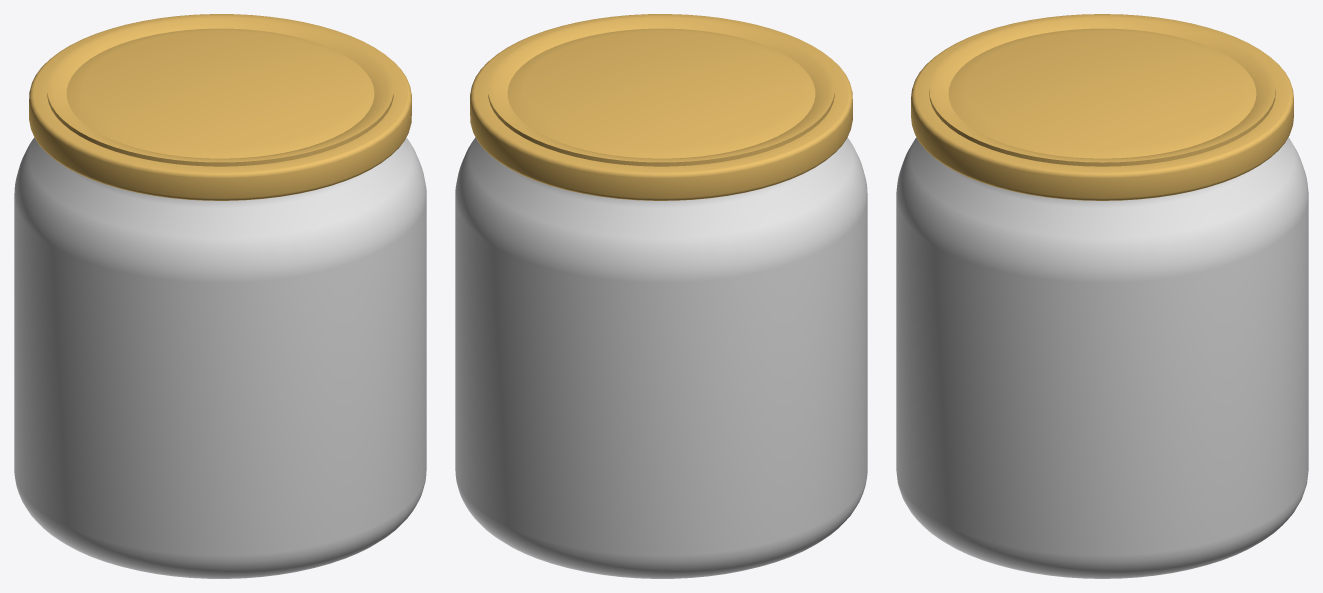
The model's file is miele_dippi_1.fbx.
3 views of the same model, side by side, from view 1: azimuth 30°, elevation 25°; view 2: azimuth 150°, elevation 25°; view 3: azimuth 270°, elevation 25° (orthographic).
Parts seen in each view (by area): view 1: vetro, tappo; view 2: vetro, tappo; view 3: vetro, tappo.
Boxes of the visible parts, box(x1,y1,x2,y2) form: vetro: box(14, 137, 426, 578); tappo: box(29, 14, 411, 200); vetro: box(455, 137, 867, 578); tappo: box(470, 14, 852, 200); vetro: box(896, 137, 1308, 578); tappo: box(911, 14, 1293, 200).
Bounding box in the file's own units: 8 × 9.02 × 8.
